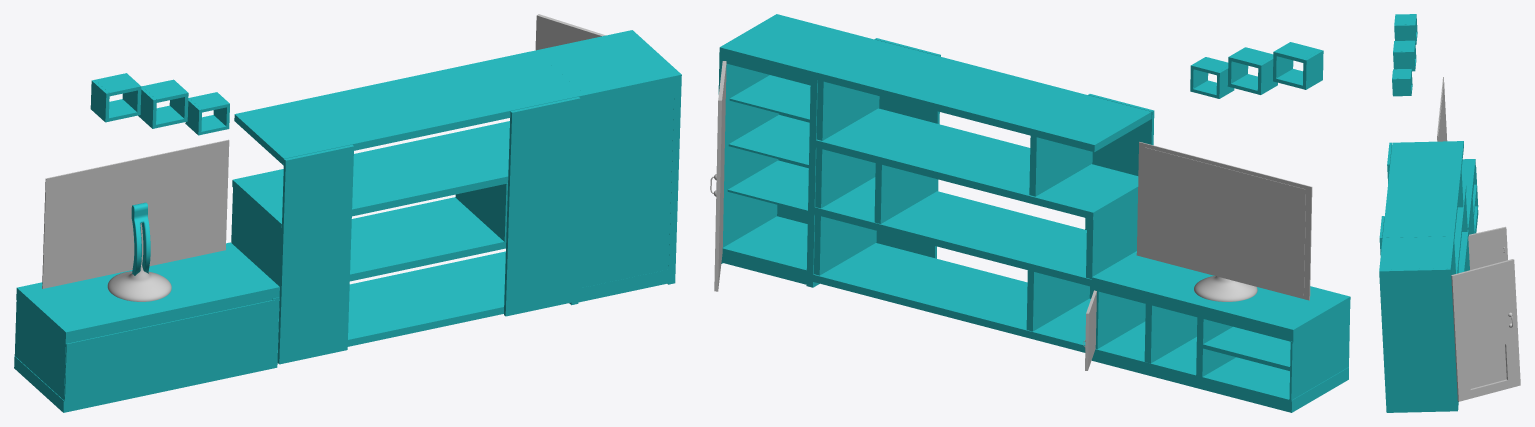
File: shelf.obj
3 renders of one model, left to right at view 1: azimuth 30°, elevation 25°; view 2: azimuth 150°, elevation 25°; view 3: azimuth 270°, elevation 25°, orthographic. The views are drawn at different scales.
Parts seen in each view (by area): view 1: furniture_xena; view 2: furniture_xena; view 3: furniture_xena.
Part boxes in pixels (x1,y1,x2,y2): furniture_xena: [14, 14, 681, 412]; furniture_xena: [710, 14, 1350, 412]; furniture_xena: [1379, 14, 1520, 412].
Size of the model in its own units: 8.97 by 4.61 by 2.74.
